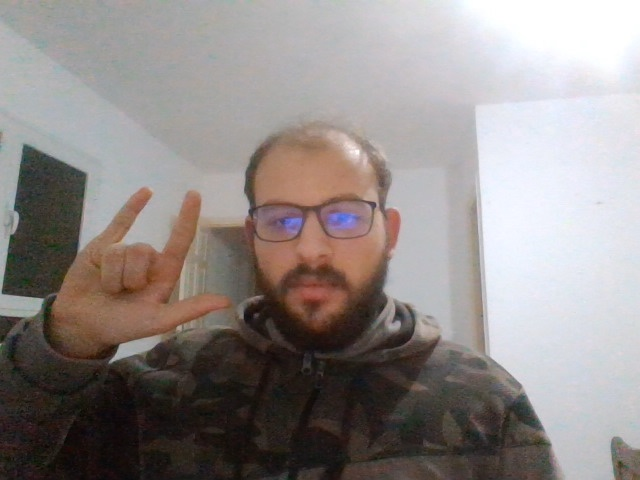I Love You: (71, 185, 226, 340)
